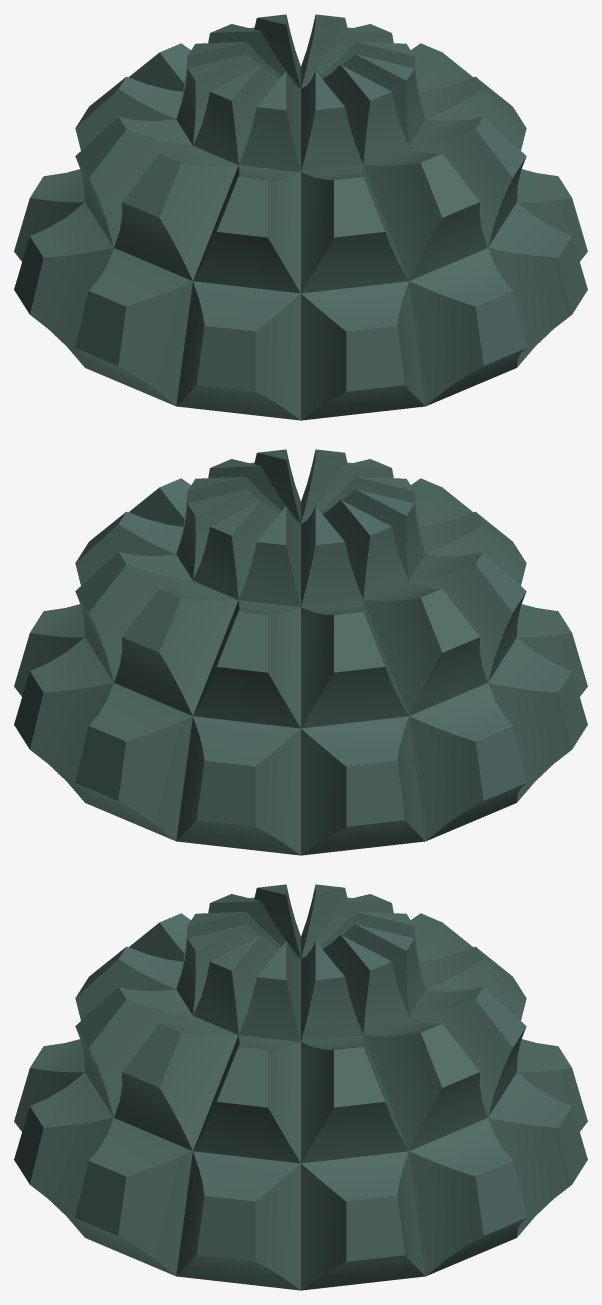
File: bush_1.fbx
3 views of the same model, one above another, from view 1: azimuth 30°, elevation 25°; view 2: azimuth 150°, elevation 25°; view 3: azimuth 270°, elevation 25° (orthographic).
Parts seen in each view (by area): view 1: bush_1; view 2: bush_1; view 3: bush_1.
Part boxes in pixels (bbox=[...]): bush_1: bbox=[14, 14, 587, 420]; bush_1: bbox=[14, 449, 587, 855]; bush_1: bbox=[14, 884, 587, 1290].
Bounding box in the file's own units: 103 × 52.96 × 103.
